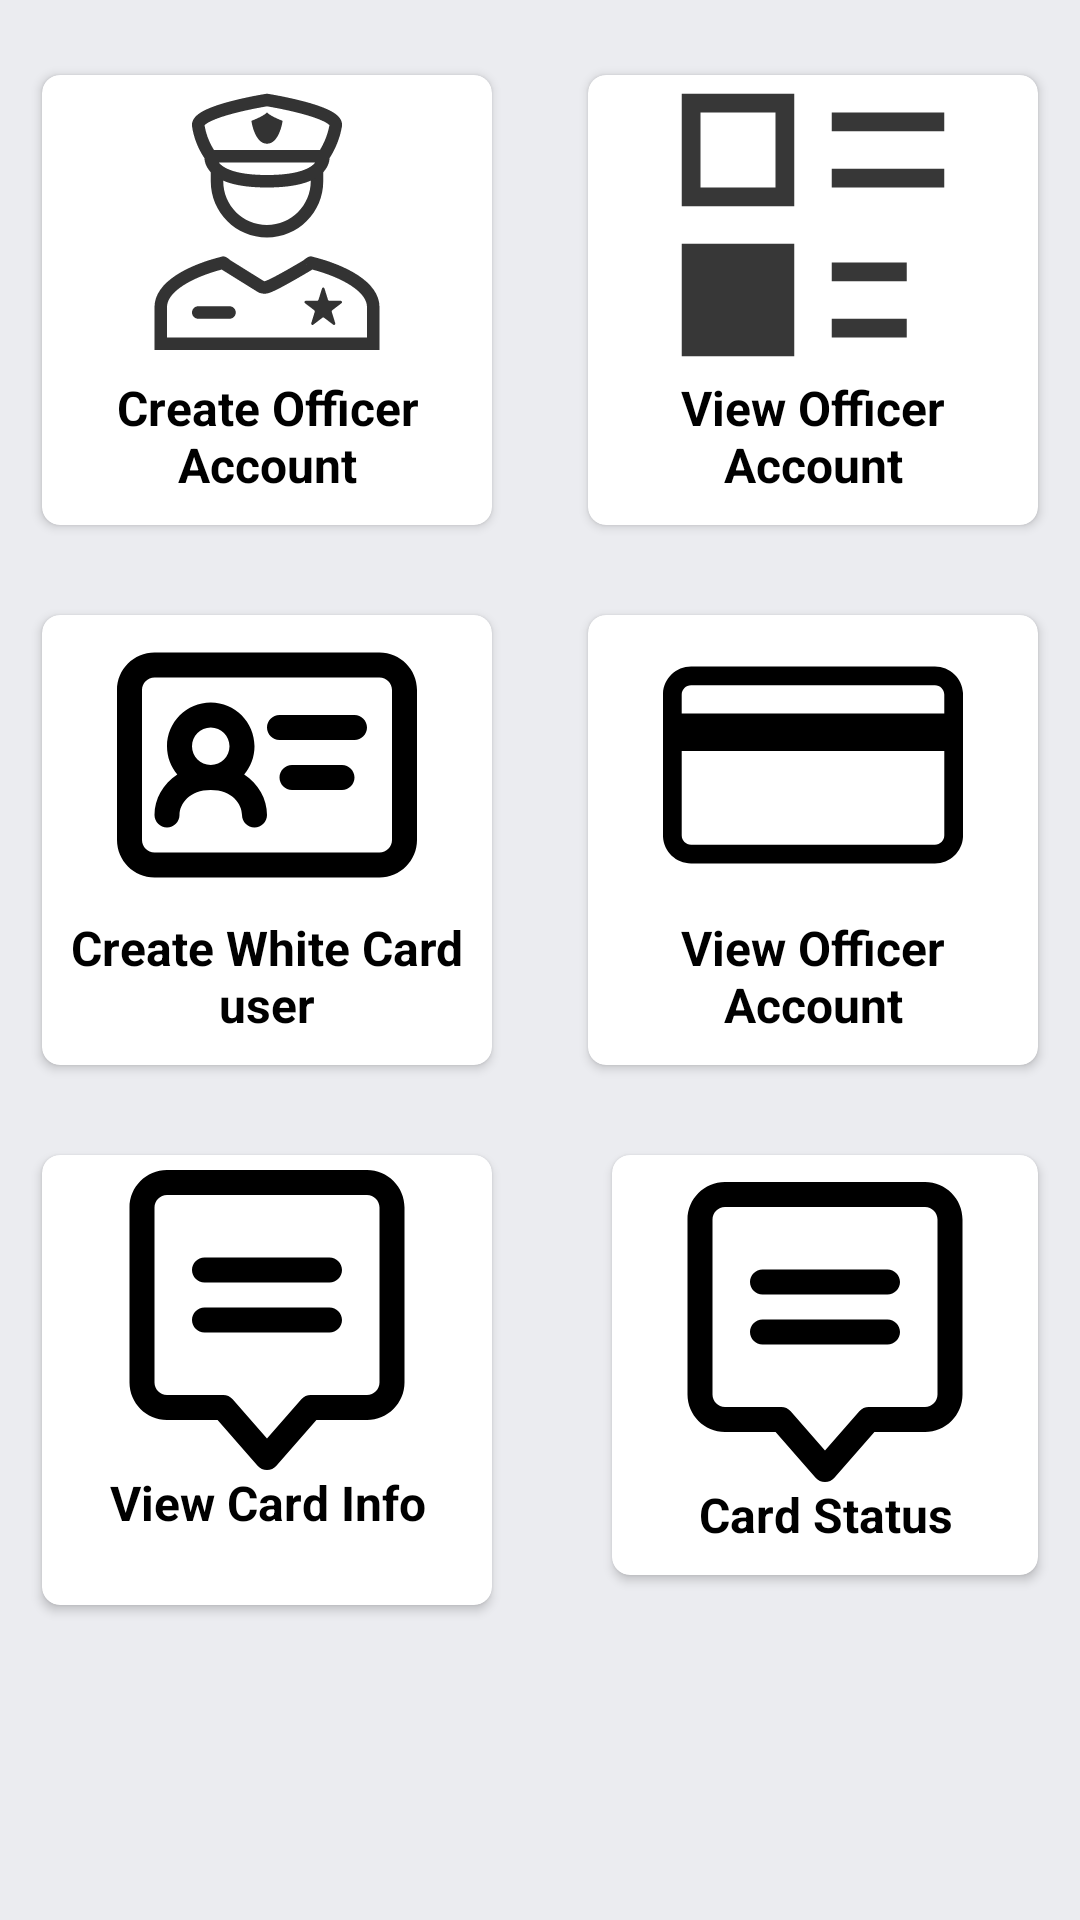

Locate icon controls on the screen. Image size 1080 × 1920, boxes as (x1,y1,x2,y2).
view card: (663,666,963,864)
